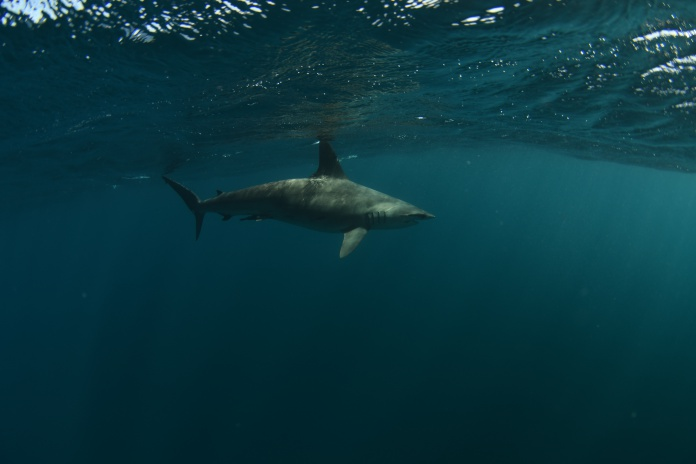Hammer: (150, 125, 489, 281), (179, 177, 422, 283)
